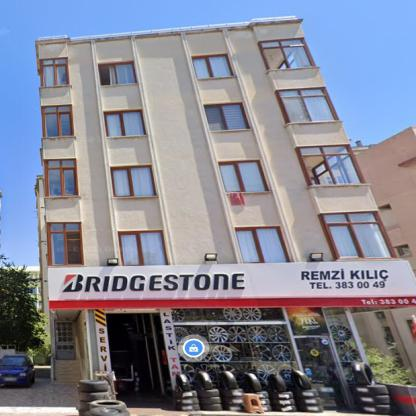door: (54, 321, 80, 360)
window: (321, 214, 393, 260), (296, 147, 364, 184), (276, 88, 336, 122), (236, 226, 289, 262), (260, 39, 314, 69), (118, 232, 166, 264), (50, 224, 83, 266), (220, 162, 266, 191), (113, 166, 156, 196), (204, 103, 247, 129), (46, 160, 77, 195), (106, 110, 146, 134), (192, 55, 233, 78), (44, 106, 74, 135), (40, 58, 70, 86), (98, 63, 138, 84)
